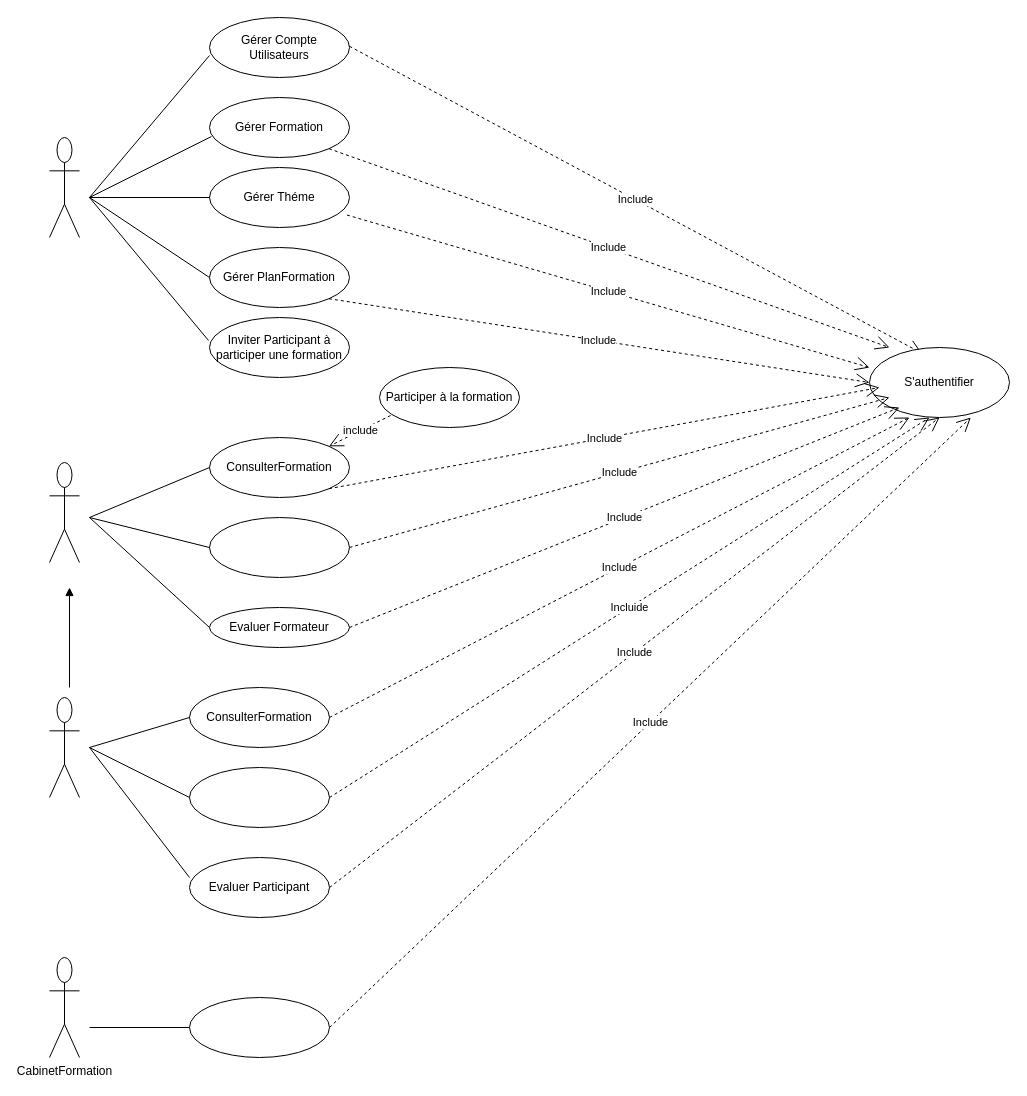
This 1027x1096 diagram has some shape labels left out. Here are the shapes that lost their labels. From the top down, the box of each, then its label:
(48, 136, 80, 238): Admin
(48, 462, 80, 562): Participant
(208, 516, 350, 578): Demande devenir formateurInterne
(48, 696, 80, 798): Formateur
(188, 766, 330, 828): ConsulterPlanFormation
(188, 996, 330, 1058): Gérer formateur Externe
